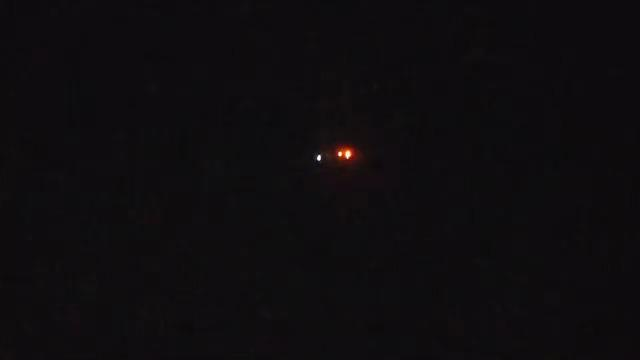Plane: (293, 142, 377, 167)
